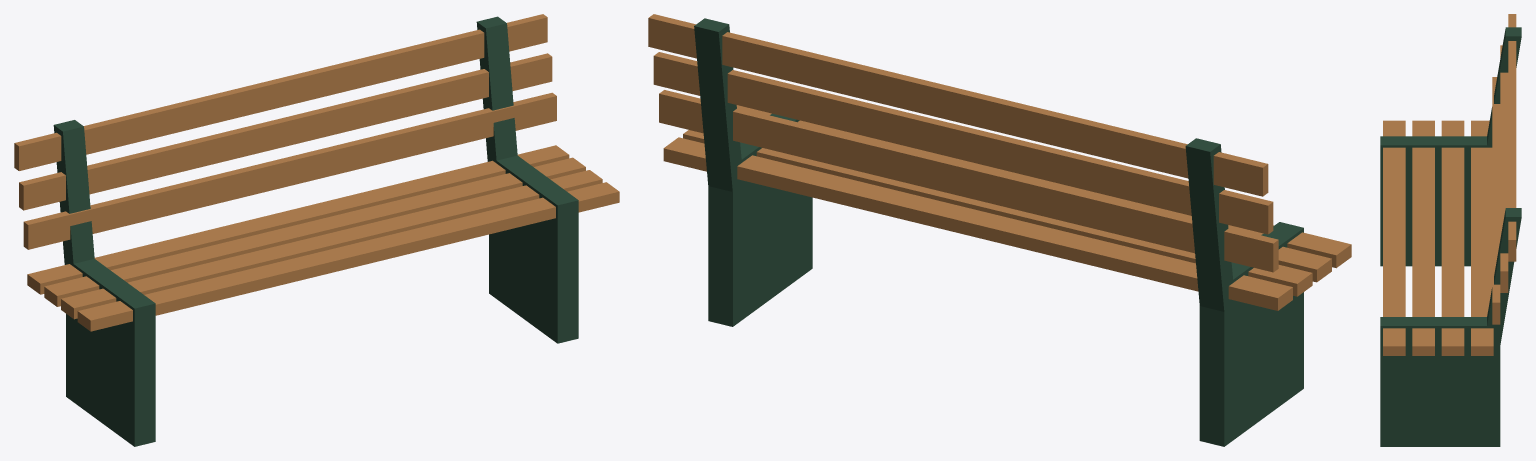
File: getkong-hhbank.glb
3 views of the same model, side by side, from view 1: azimuth 30°, elevation 25°; view 2: azimuth 150°, elevation 25°; view 3: azimuth 270°, elevation 25° (orthographic). The views are drawn at different scales.
Parts seen in each view (by area): view 1: bank; view 2: bank; view 3: bank.
Boxes of the visible parts, bbox=[...] form: bank: bbox=[14, 14, 619, 446]; bank: bbox=[648, 14, 1351, 446]; bank: bbox=[1380, 14, 1521, 446].
Size of the model in its own units: 2 by 0.95 by 0.53.
